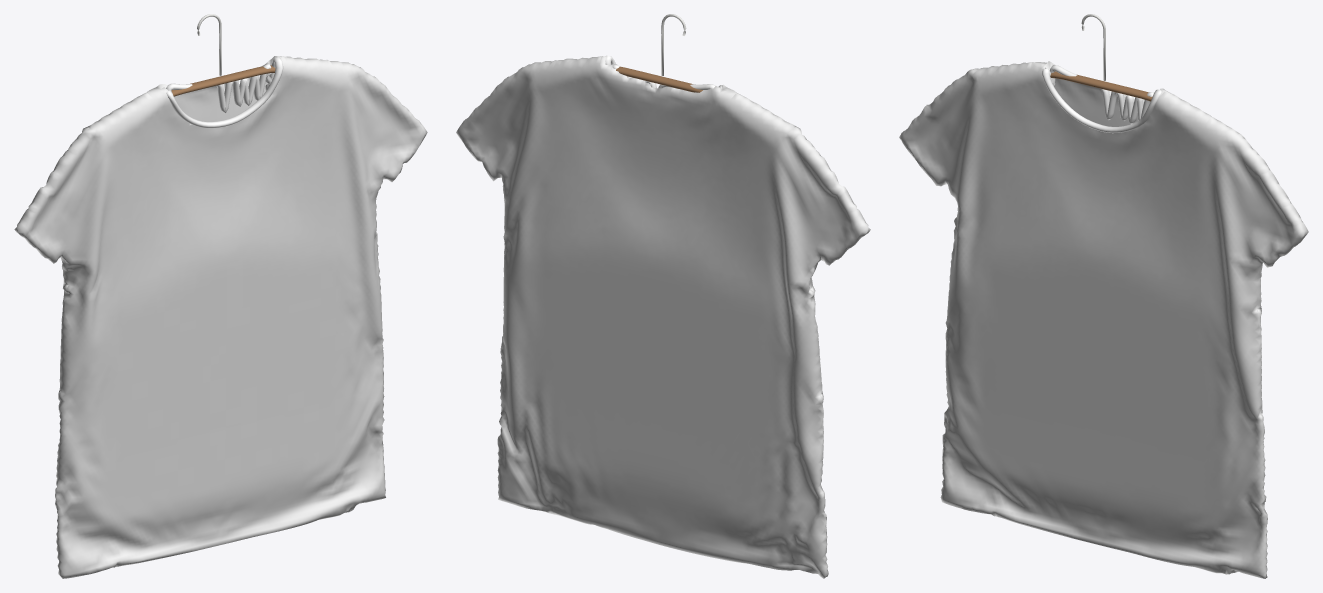
Rendered from half-sleeve-v3.glb.
3 views of the same model, side by side, from view 1: azimuth 30°, elevation 25°; view 2: azimuth 150°, elevation 25°; view 3: azimuth 330°, elevation 25° (orthographic).
Parts seen in each view (by area): view 1: Shirt, Collar, HangerWood; view 2: Shirt, HangerWood; view 3: Shirt, Collar, HangerWood.
Part boxes in pixels (left/top/right/bottom): Shirt: left=14, top=56, right=427, bottom=578; Collar: left=166, top=57, right=283, bottom=128; HangerWood: left=171, top=65, right=275, bottom=96; Shirt: left=456, top=56, right=870, bottom=578; HangerWood: left=616, top=66, right=702, bottom=92; Shirt: left=899, top=61, right=1308, bottom=578; Collar: left=1042, top=65, right=1161, bottom=133; HangerWood: left=1050, top=71, right=1152, bottom=101.
Bounding box in the file's own units: 0.6531 × 0.8126 × 0.0541.
4 materials, 1 textured.
